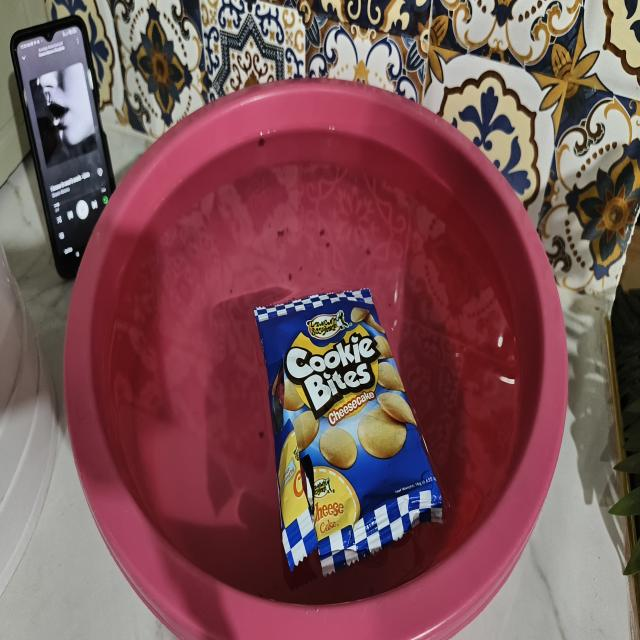Plastic Wrapper: (254, 289, 442, 557)
